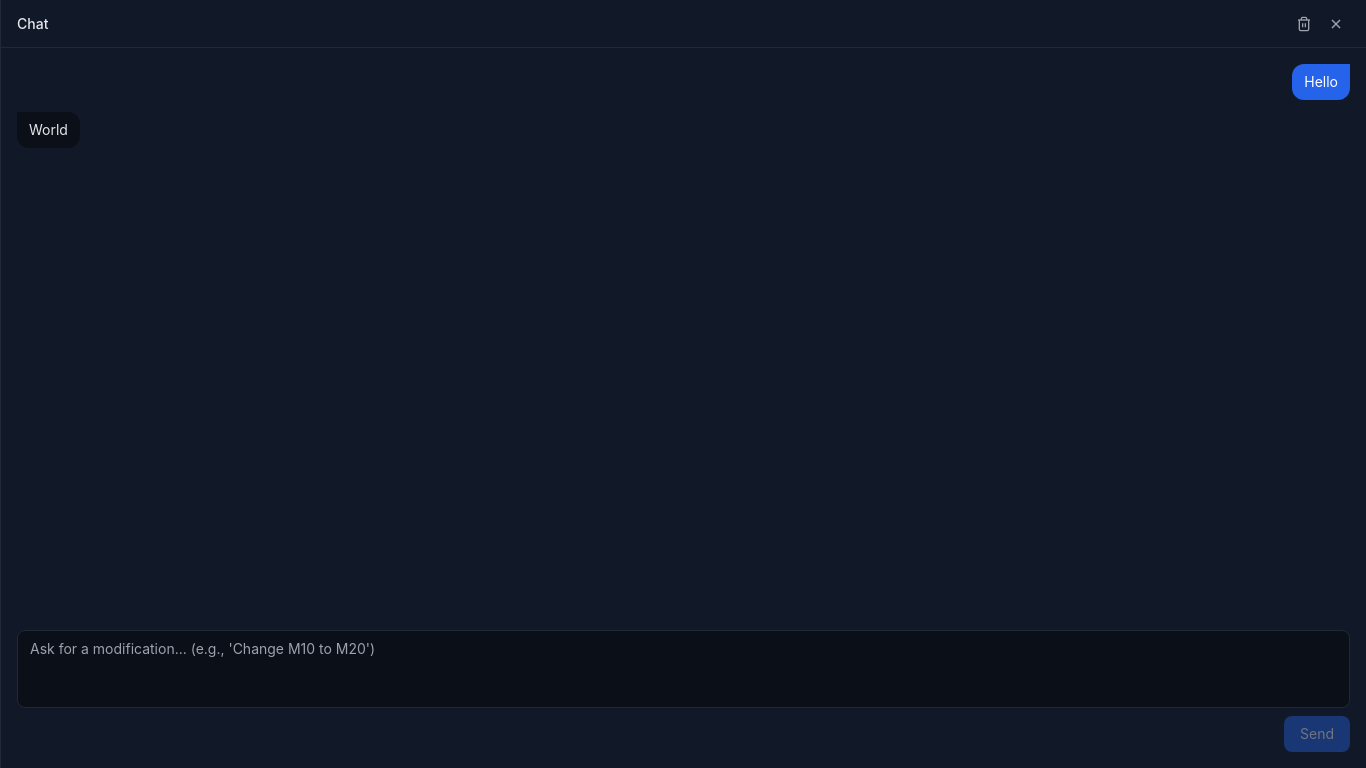
Test: ChatPanel › clears the message list and shows the empty state when the clear button is clicked
Expected: the text "Hello" is shown, [1292,64,1350,100]
Step 1. Click the button with test id "clear-chat-button" → (1304, 24), box [1290,10,1318,38]
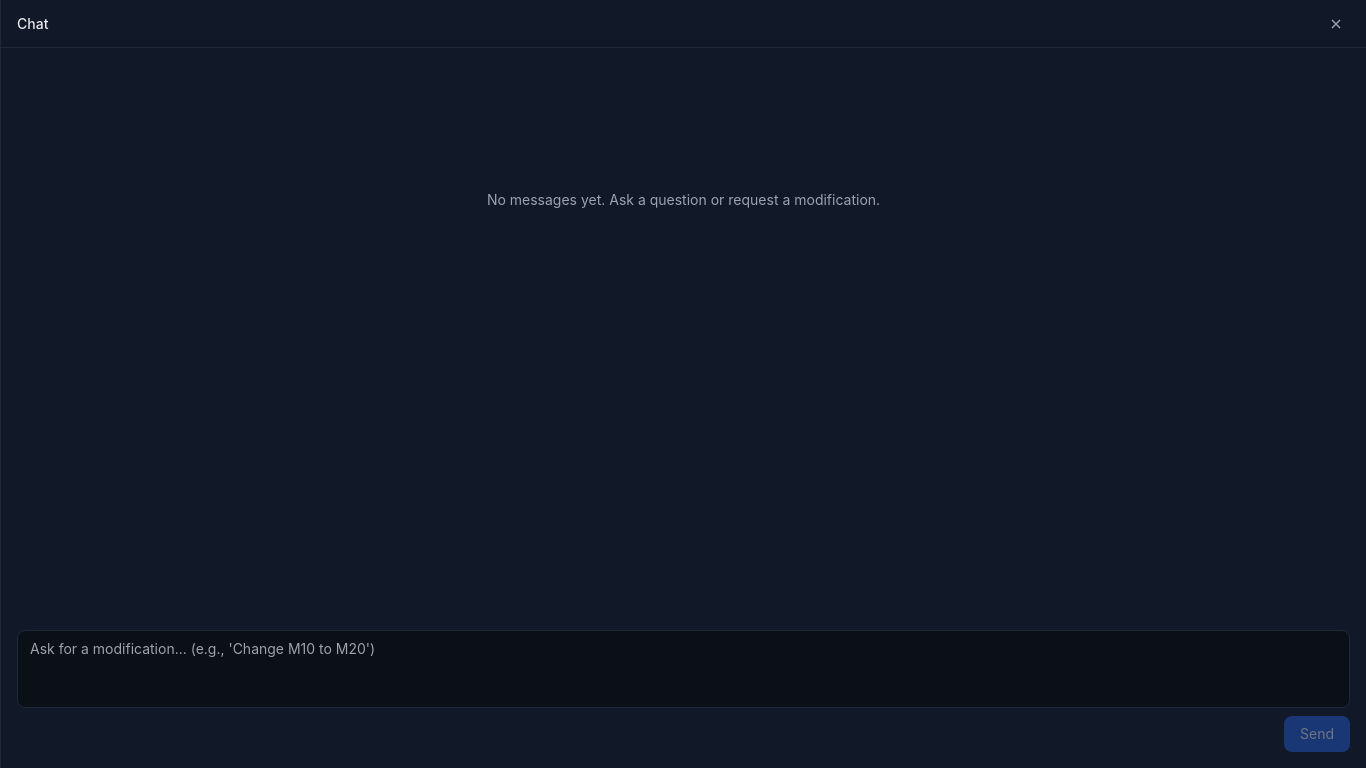
Now the text "No messages yet. Ask a question or request a modification." is shown, box [487,190,880,208]
Now the text "Hello" is gone
Now the text "World" is gone
